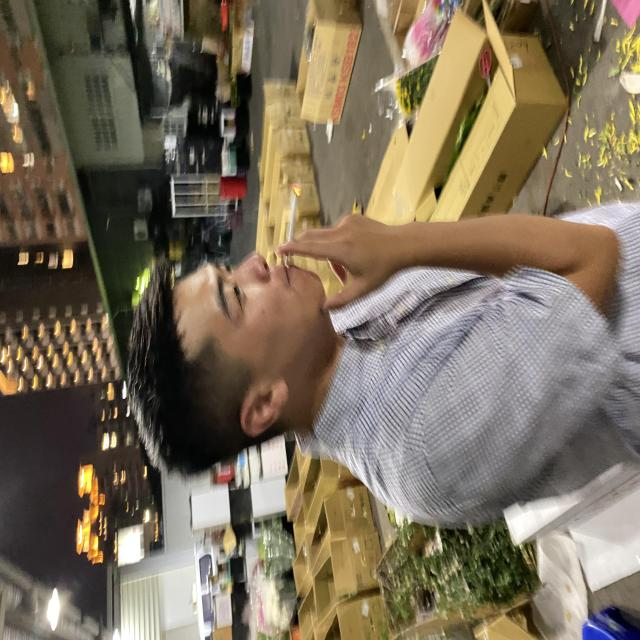cigarette: (275, 178, 314, 273)
